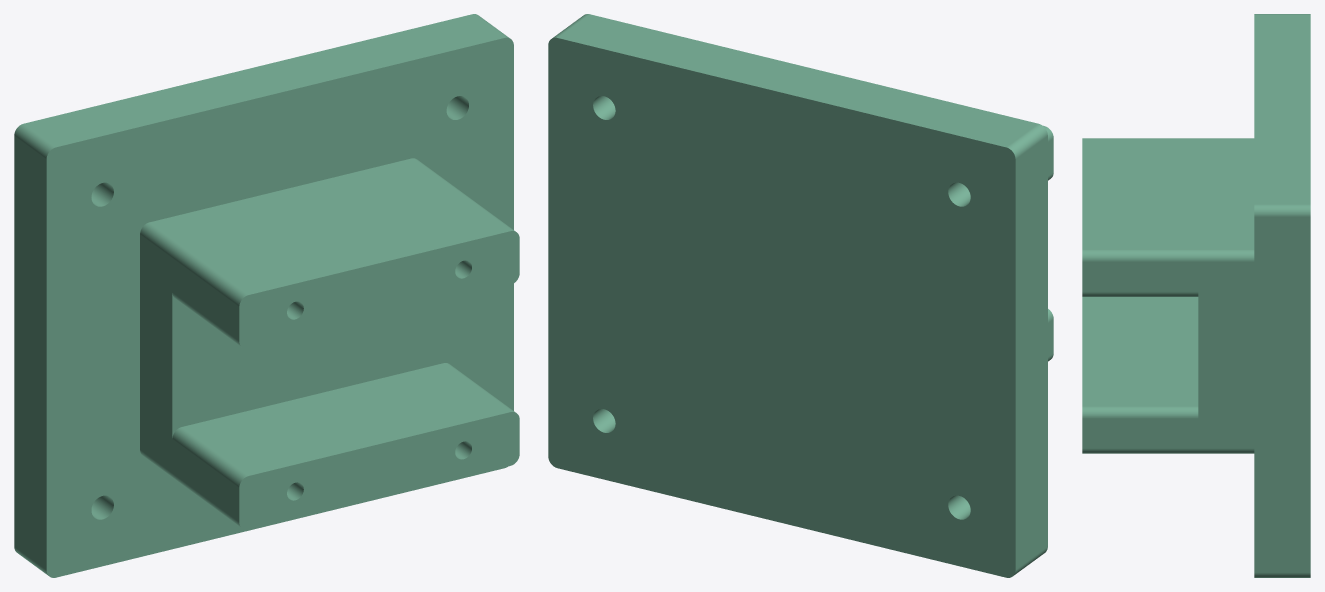
3 renders of one model, left to right at view 1: azimuth 30°, elevation 25°; view 2: azimuth 150°, elevation 25°; view 3: azimuth 270°, elevation 25°, orthographic. The views are drawn at different scales.
Parts seen in each view (by area): view 1: F08_load_cell_mount; view 2: F08_load_cell_mount; view 3: F08_load_cell_mount.
Boxes of the visible parts, box(x1,y1,x2,y2) form: F08_load_cell_mount: box(14, 14, 519, 577); F08_load_cell_mount: box(548, 14, 1053, 577); F08_load_cell_mount: box(1082, 14, 1310, 577).
Bounding box in the file's own units: 50 × 44 × 24.4.
